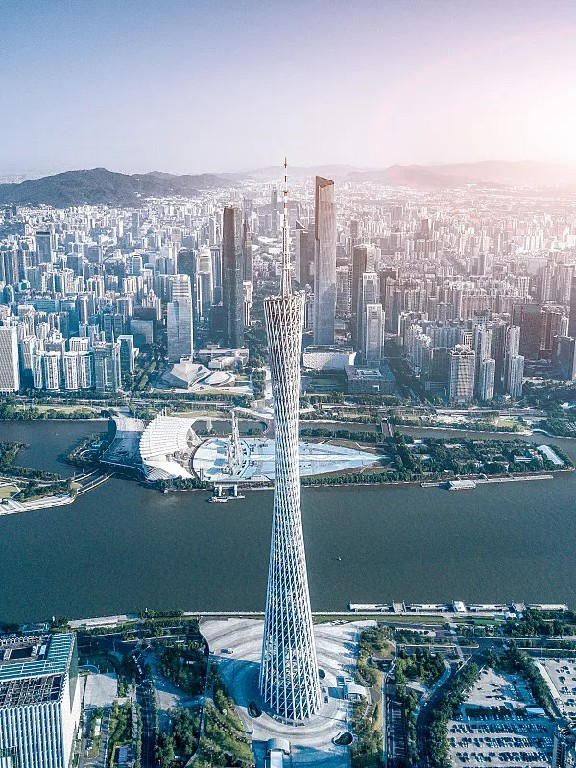Canton: (256, 153, 330, 729)
